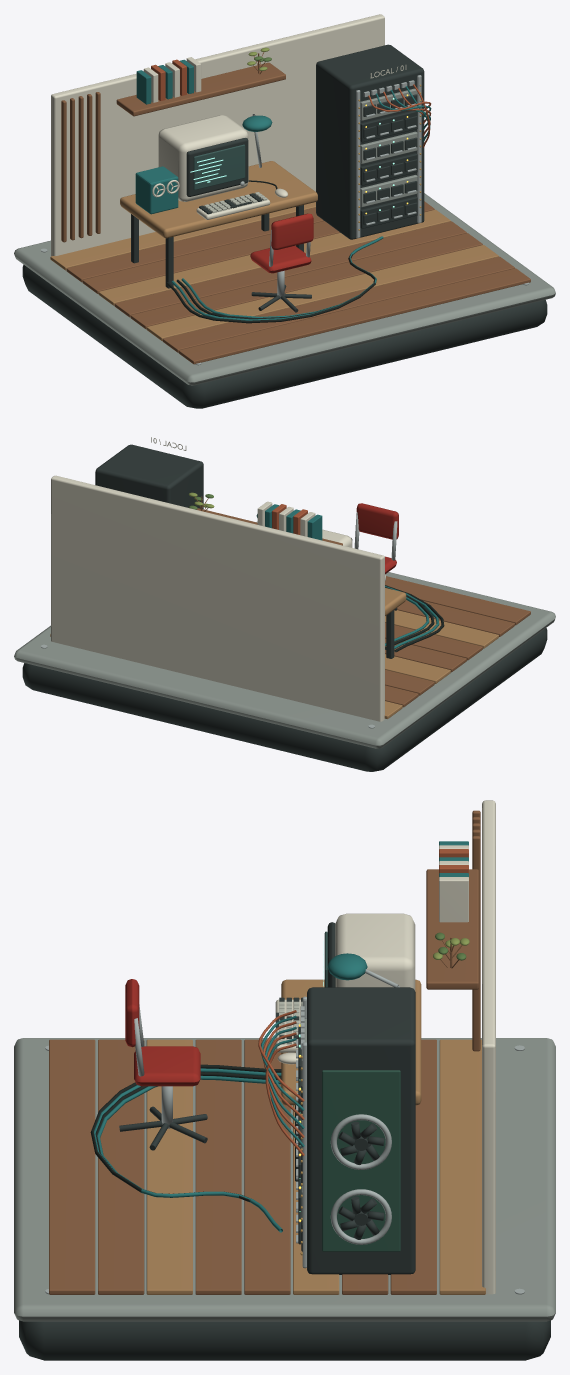
Rendered from assistant-v2.glb.
3 renders of one model, top to bottom at view 1: azimuth 30°, elevation 25°; view 2: azimuth 150°, elevation 25°; view 3: azimuth 270°, elevation 25°, orthographic. The views are drawn at different scales.
Visible parts, largest first — view 1: assistant_Oiled timber, assistant_Graphite enamel, assistant_Warm chalk, assistant_Timber end grain, assistant_Concrete, assistant_Petrol enamel, assistant_Brushed aluminum, assistant_Red leather, assistant_Smoked window, assistant_Rubber and cables, assistant_Oxide paint; view 2: assistant_Warm chalk, assistant_Graphite enamel, assistant_Concrete, assistant_Oiled timber, assistant_Timber end grain, assistant_Red leather, assistant_Petrol enamel, assistant_Rubber and cables, assistant_Oxide paint; view 3: assistant_Oiled timber, assistant_Concrete, assistant_Graphite enamel, assistant_Timber end grain, assistant_Warm chalk, assistant_Circuit green, assistant_Brushed aluminum, assistant_Petrol enamel, assistant_Red leather, assistant_Oxide paint, assistant_Rubber and cables, fan_62_Graphite enamel (+1 smaller).
Boxes of the visible parts, x1,y1,x2,y2 form: assistant_Oiled timber: (61, 52, 530, 364); assistant_Graphite enamel: (22, 44, 547, 408); assistant_Warm chalk: (51, 14, 406, 256); assistant_Timber end grain: (50, 161, 498, 340); assistant_Concrete: (14, 88, 555, 385); assistant_Petrol enamel: (135, 59, 431, 320); assistant_Brushed aluminum: (41, 75, 528, 365); assistant_Red leather: (250, 213, 313, 273); assistant_Smoked window: (193, 144, 245, 189); assistant_Rubber and cables: (166, 180, 375, 323); assistant_Oxide paint: (151, 59, 431, 147); assistant_Warm chalk: (51, 437, 384, 721); assistant_Graphite enamel: (22, 444, 547, 771); assistant_Concrete: (14, 572, 555, 748); assistant_Oiled timber: (188, 496, 530, 707); assistant_Timber end grain: (50, 588, 498, 718); assistant_Red leather: (356, 503, 398, 574); assistant_Petrol enamel: (256, 504, 439, 649); assistant_Rubber and cables: (385, 585, 444, 652); assistant_Oxide paint: (272, 504, 307, 534); assistant_Oiled timber: (49, 810, 480, 1294); assistant_Concrete: (14, 1018, 555, 1321); assistant_Graphite enamel: (19, 922, 550, 1360); assistant_Timber end grain: (146, 979, 485, 1294); assistant_Warm chalk: (275, 800, 495, 1294); assistant_Circuit green: (322, 1070, 400, 1251); assistant_Brushed aluminum: (45, 969, 524, 1294); assistant_Petrol enamel: (94, 841, 468, 1232); assistant_Red leather: (125, 979, 200, 1086); assistant_Oxide paint: (258, 849, 468, 1155); assistant_Rubber and cables: (90, 1064, 281, 1201); fan_62_Graphite enamel: (338, 1196, 384, 1239).
Bounding box in the file's own units: 5.18 × 2.92 × 4.33.
